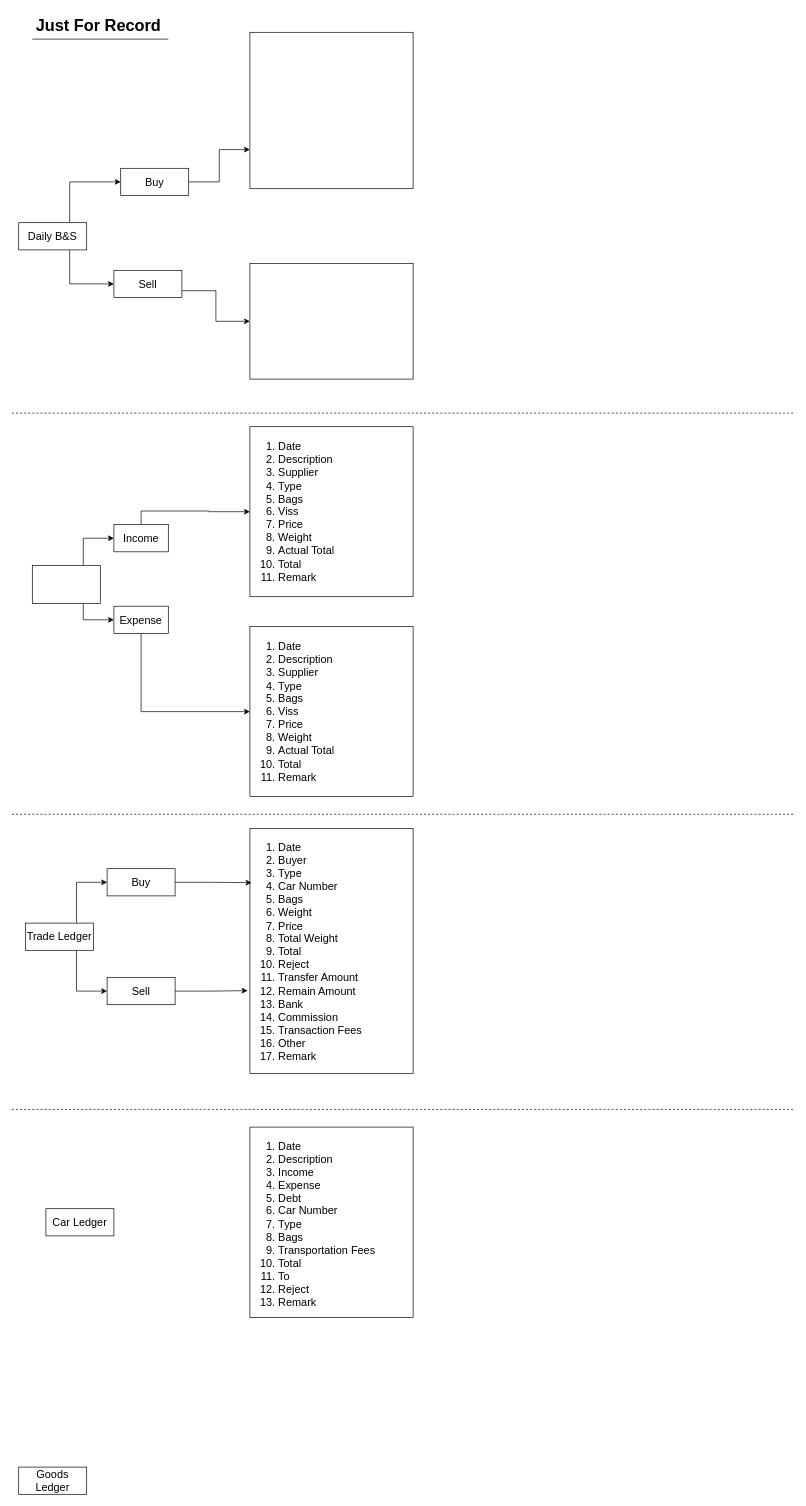
This 806x1506 diagram has some shape labels left out. Here are the shapes that lost their labels. From the top down, the centre of each, then its label:
point 331,110: Date Description Supplier Type Bags Viss Price Weight Total Remark
point 331,321: Date Description Buyer Type Bags Price Remark
point 66,584: Daily Cash Flow
